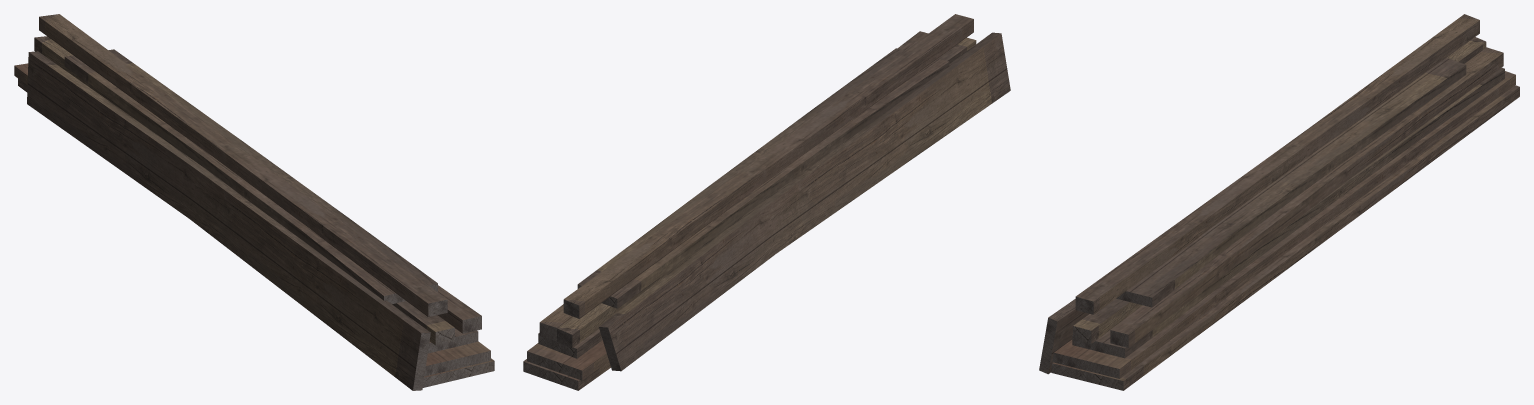
The model's file is jov_house01prop_wood1.fbx.
The picture shows the model from 3 angles, left to right: view 1: azimuth 30°, elevation 25°; view 2: azimuth 150°, elevation 25°; view 3: azimuth 330°, elevation 25°; orthographic projection.
Parts seen in each view (by area): view 1: jov_house01prop_wood1; view 2: jov_house01prop_wood1; view 3: jov_house01prop_wood1.
Part boxes in pixels (x1=…): jov_house01prop_wood1: x1=14, y1=14, x2=494, y2=390; jov_house01prop_wood1: x1=523, y1=14, x2=1010, y2=390; jov_house01prop_wood1: x1=1039, y1=14, x2=1519, y2=390.
Size of the model in its own units: 57.96 by 49.46 by 496.
